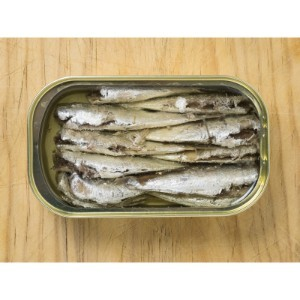sardine_brain food: (32, 88, 263, 213)
